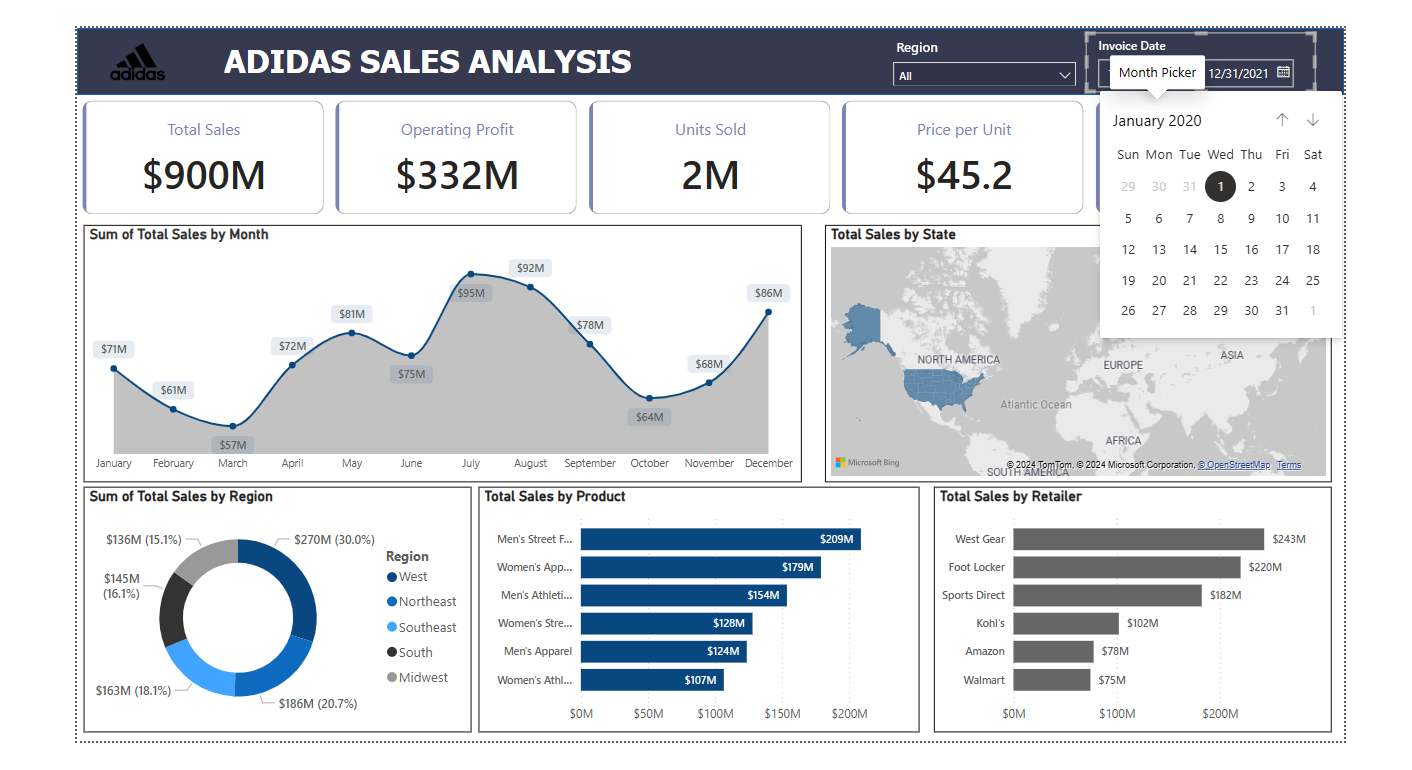

What the dashboard file says about the page in this screenshot:
{"tool":"powerbi","page":{"name":"Adidas Dashboard","canvas":[1280,720],"ordinal":0},"visuals":[{"type":"shape","box":[0,0,1280,67.8],"z":0},{"type":"textbox","box":[143.3,7.8,431.1,52.2],"z":1000},{"type":"image","box":[24.4,10,74.4,47.8],"z":2000},{"type":"cardVisual","fields":{"Data":["Sum(Data Sales Adidas.Total Sales)","Sum(Data Sales Adidas.Operating Profit)","Sum(Data Sales Adidas.Units Sold)","Avg(Data Sales Adidas.Price per Unit)","Avg(Data Sales Adidas.Operating Margin)"]},"box":[0,67.8,1280,125.6],"z":3000},{"type":"areaChart","fields":{"Category":["Data Sales Adidas.Invoice Date.Variation.Date Hierarchy.Month"],"Y":["Sum(Data Sales Adidas.Total Sales)"]},"box":[6.7,198.9,725.6,260],"z":4000},{"type":"filledMap","title":"Total Sales by State","fields":{"Category":["Data Sales Adidas.State"],"Y":["Sum(Data Sales Adidas.Total Sales)"]},"box":[755.6,198.9,512.2,260],"z":5000},{"type":"donutChart","fields":{"Category":["Data Sales Adidas.Region"],"Y":["Sum(Data Sales Adidas.Total Sales)"]},"box":[6.7,463.3,392.2,247.8],"z":6000},{"type":"barChart","title":"Total Sales by Product","fields":{"Category":["Data Sales Adidas.Product"],"Y":["Sum(Data Sales Adidas.Total Sales)"]},"box":[405.6,463.3,445.6,247.8],"z":7000},{"type":"barChart","title":"Total Sales by Retailer","fields":{"Y":["Sum(Data Sales Adidas.Total Sales)"],"Category":["Data Sales Adidas.Retailer"]},"box":[865.6,463.3,402.2,247.8],"z":8000},{"type":"slicer","fields":{"Values":["Data Sales Adidas.Region"]},"box":[814.4,4.4,204.4,53.3],"z":9000},{"type":"slicer","fields":{"Values":["Data Sales Adidas.Invoice Date"]},"box":[1018.9,4.4,232.2,60],"z":10000}]}

Visuals, with their boxes on the page's 1280x720 design canvas (x1, y1, x2, y2). These are canvas units, not pixel positions in the 1412x770 screenshot, which may show the page scaled, cropped or inside an application window:
shape: Rect(0, 0, 1280, 68)
textbox: Rect(143, 8, 574, 60)
image: Rect(24, 10, 99, 58)
cardVisual - Sum(Data Sales Adidas.Total Sales) x Sum(Data Sales Adidas.Operating Profit): Rect(0, 68, 1280, 193)
areaChart - Data Sales Adidas.Invoice Date.Variation.Date Hierarchy.Month x Sum(Data Sales Adidas.Total Sales): Rect(7, 199, 732, 459)
"Total Sales by State" filledMap: Rect(756, 199, 1268, 459)
donutChart - Data Sales Adidas.Region x Sum(Data Sales Adidas.Total Sales): Rect(7, 463, 399, 711)
"Total Sales by Product" barChart: Rect(406, 463, 851, 711)
"Total Sales by Retailer" barChart: Rect(866, 463, 1268, 711)
slicer - Data Sales Adidas.Region: Rect(814, 4, 1019, 58)
slicer - Data Sales Adidas.Invoice Date: Rect(1019, 4, 1251, 64)
